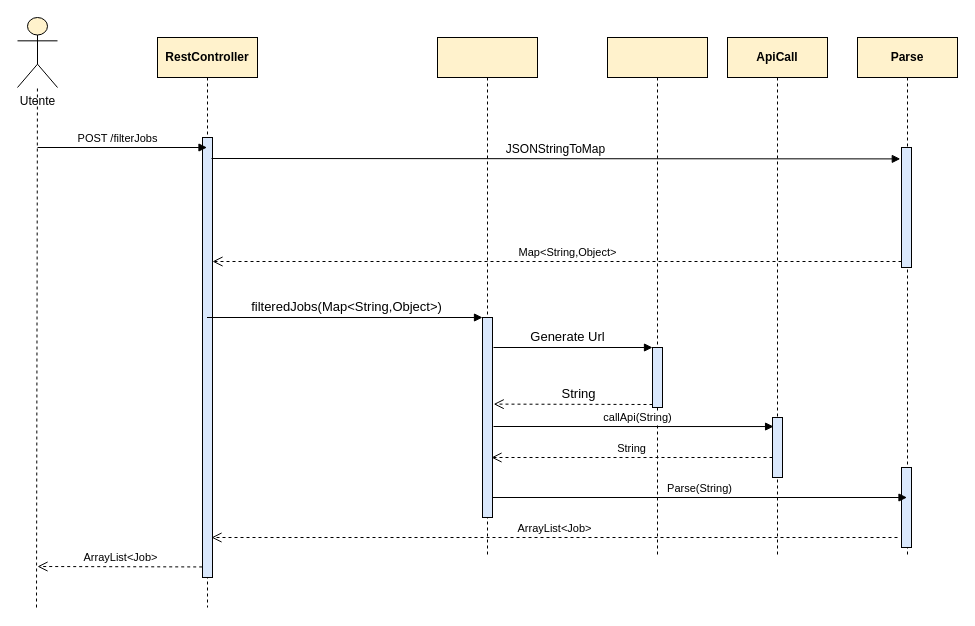
Some shapes in this 975 by 626 pixel diagram are drawn without their labels. The box of each missing label's shape, as (x1, y1, x2, y2) in pixels:
Filter: (436, 36, 538, 558)
Url: (606, 36, 708, 558)
